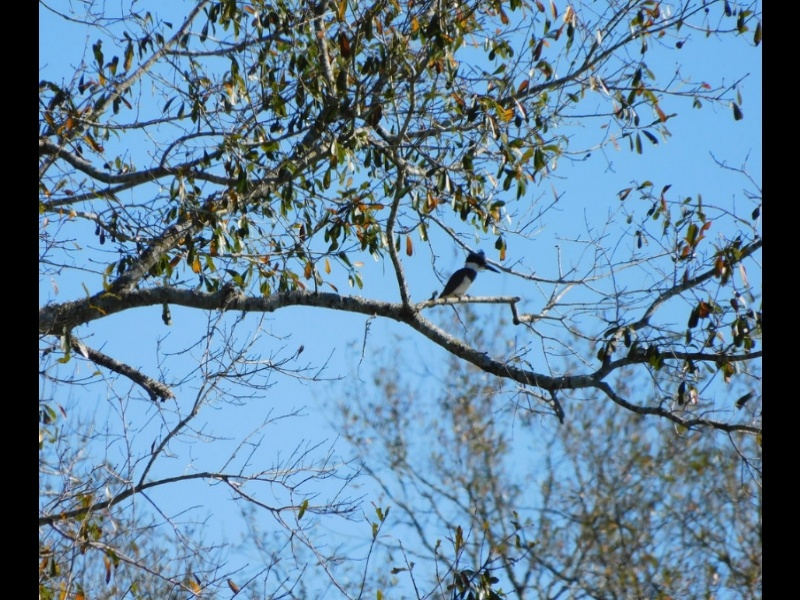kingfisher: (440, 249, 501, 307)
